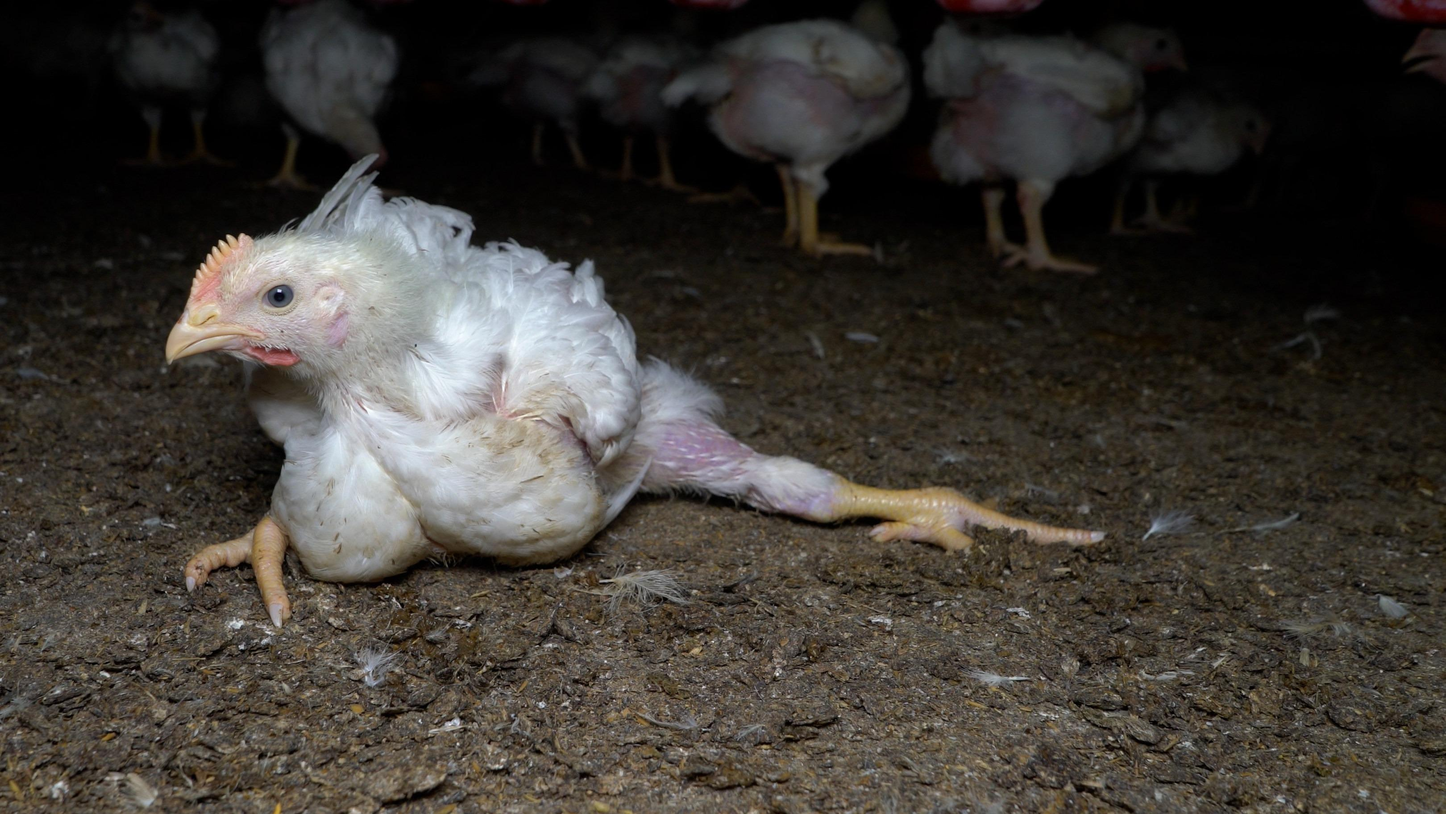AbNormal: (165, 159, 1122, 603)
